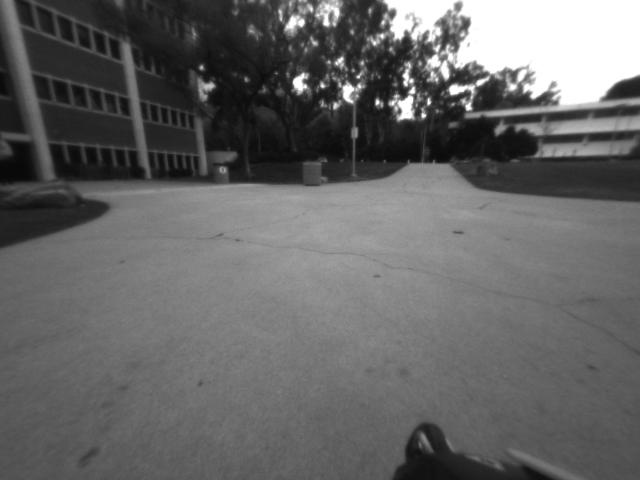trashcan: (301, 157, 326, 187), (212, 161, 232, 187)
